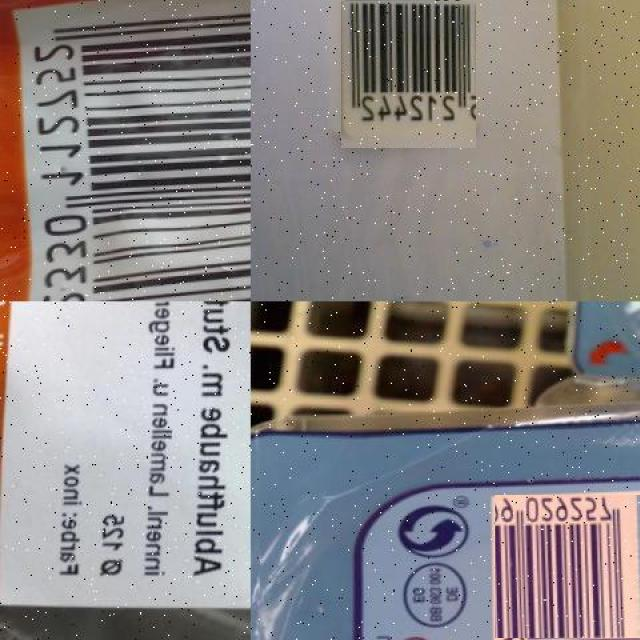Barcode: (18, 0, 251, 302), (335, 0, 483, 142), (496, 494, 640, 639)
